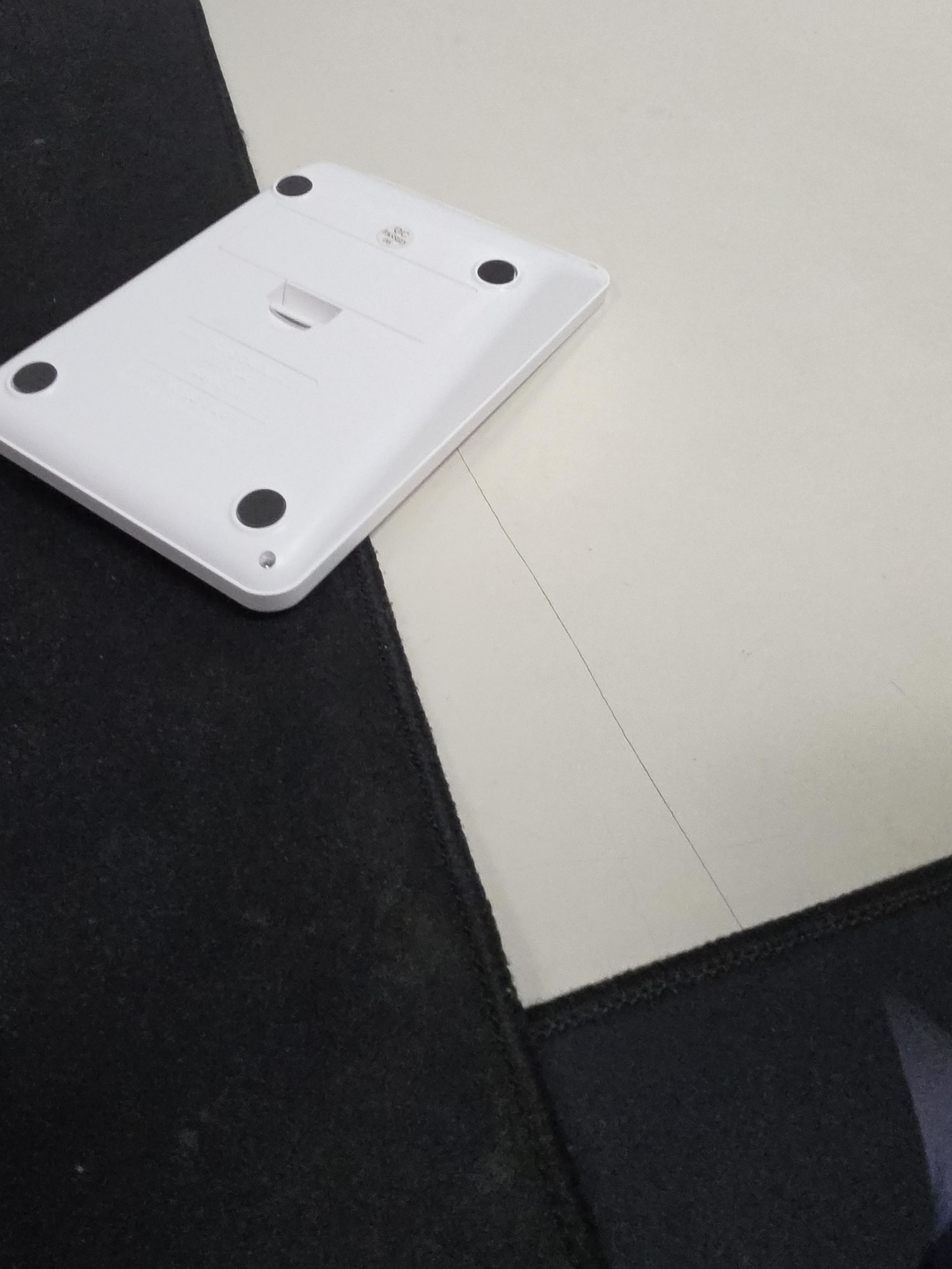calculator: (0, 161, 611, 614)
